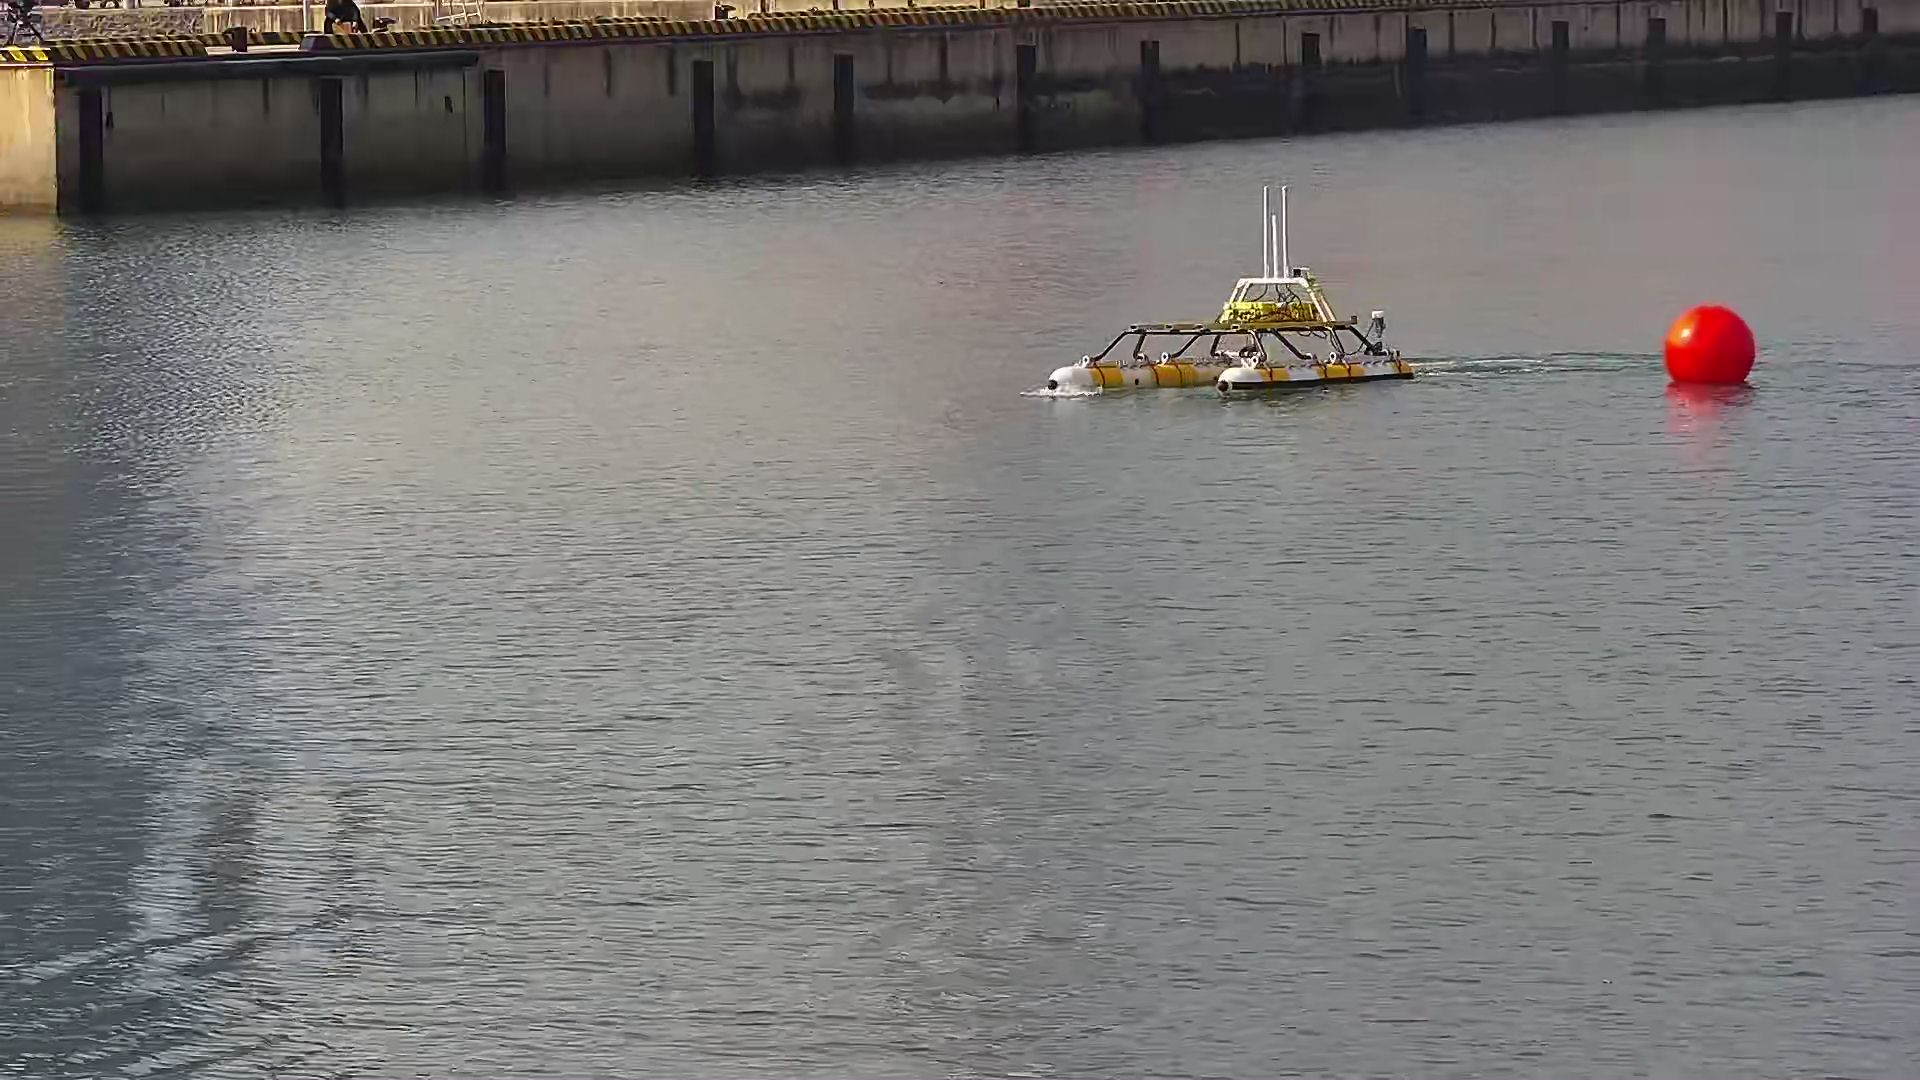ball: (1663, 301, 1759, 389)
boat: (1042, 272, 1411, 396)
